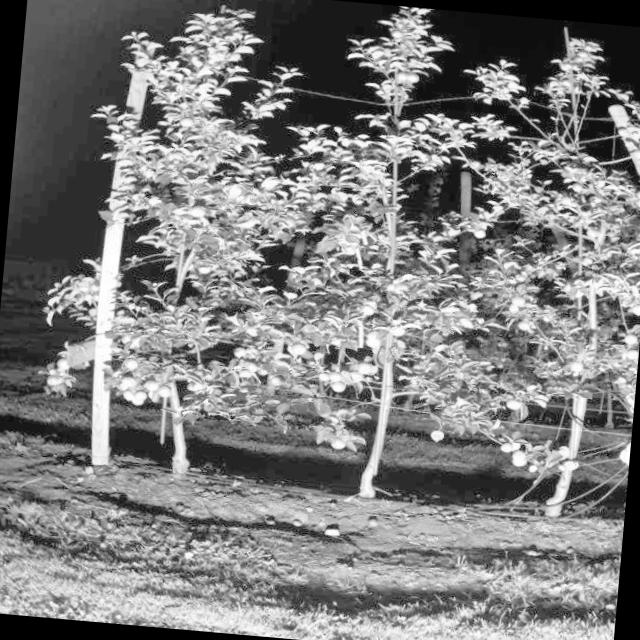Tree: (275, 0, 481, 513), (105, 1, 307, 482), (450, 22, 630, 531)
